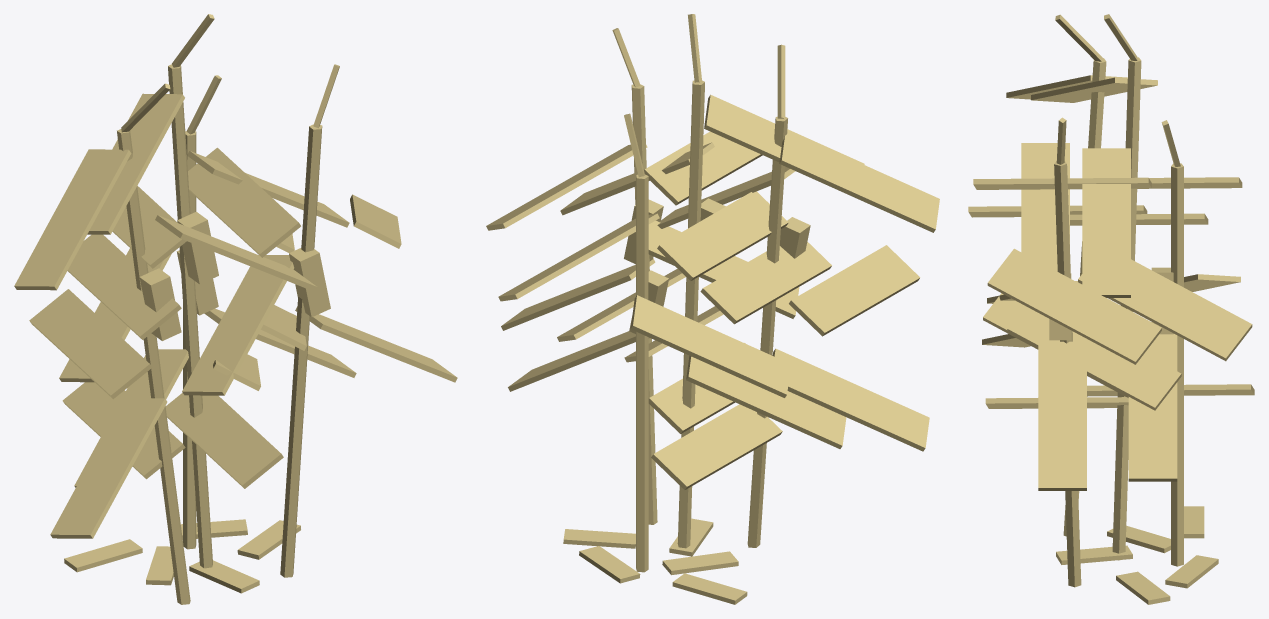
The model's file is halloween-slasher-street-cornstalk-clump-cc4c9832__27291.glb.
3 renders of one model, left to right at view 1: azimuth 30°, elevation 25°; view 2: azimuth 150°, elevation 25°; view 3: azimuth 270°, elevation 25°, orthographic. The views are drawn at different scales.
Visible parts, largest first — view 1: cornstalk-clump; view 2: cornstalk-clump; view 3: cornstalk-clump.
Part boxes in pixels (<box>): cornstalk-clump: <box>14,14,457,604</box>; cornstalk-clump: <box>486,14,939,604</box>; cornstalk-clump: <box>968,14,1254,604</box>.
Bounding box in the file's own units: 1.99 × 2.45 × 1.17.
